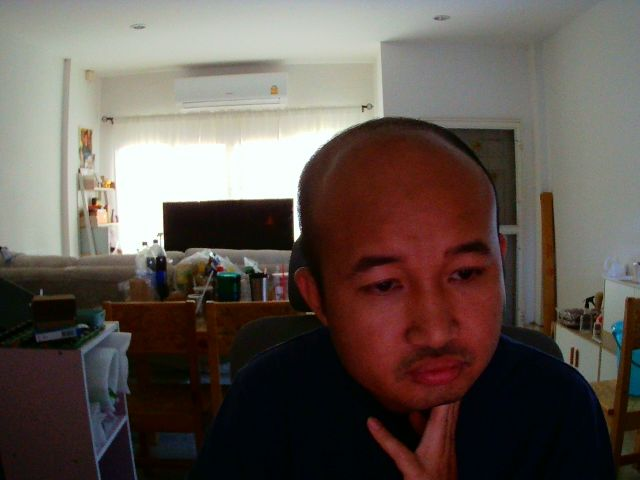face: (298, 114, 503, 406)
